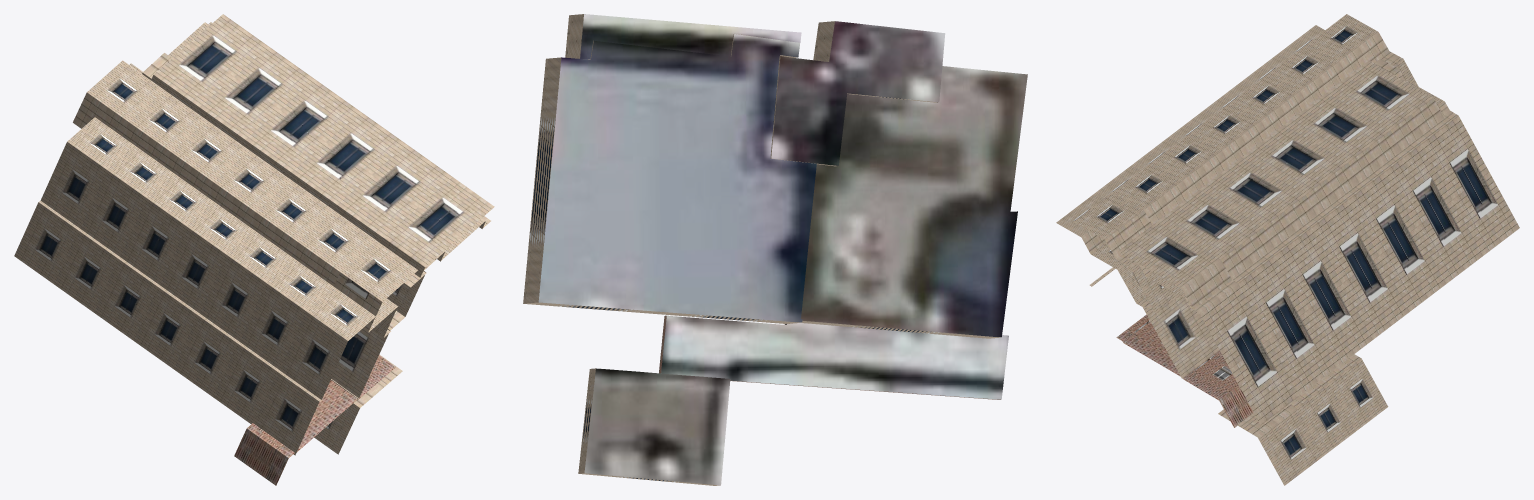
The picture shows the model from 3 angles, left to right: view 1: azimuth 30°, elevation 25°; view 2: azimuth 150°, elevation 25°; view 3: azimuth 270°, elevation 25°; orthographic projection. The views are drawn at different scales.
Size of the model in its own units: 27.57 by 26.13 by 30.3.
Materials: 21 (21 with a texture image).
